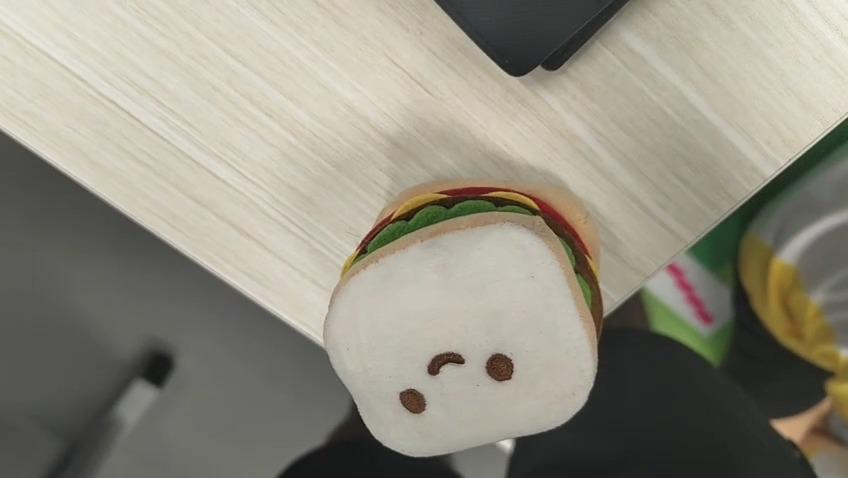objects: (321, 178, 601, 459)
